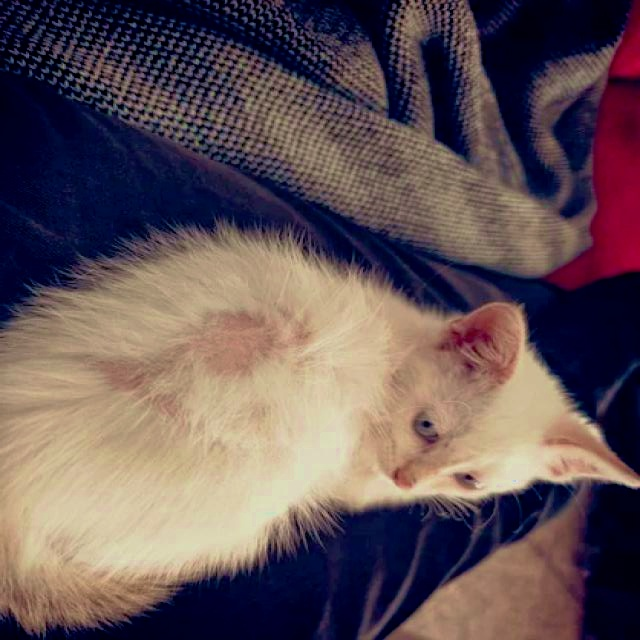hairloss: (103, 318, 285, 403)
